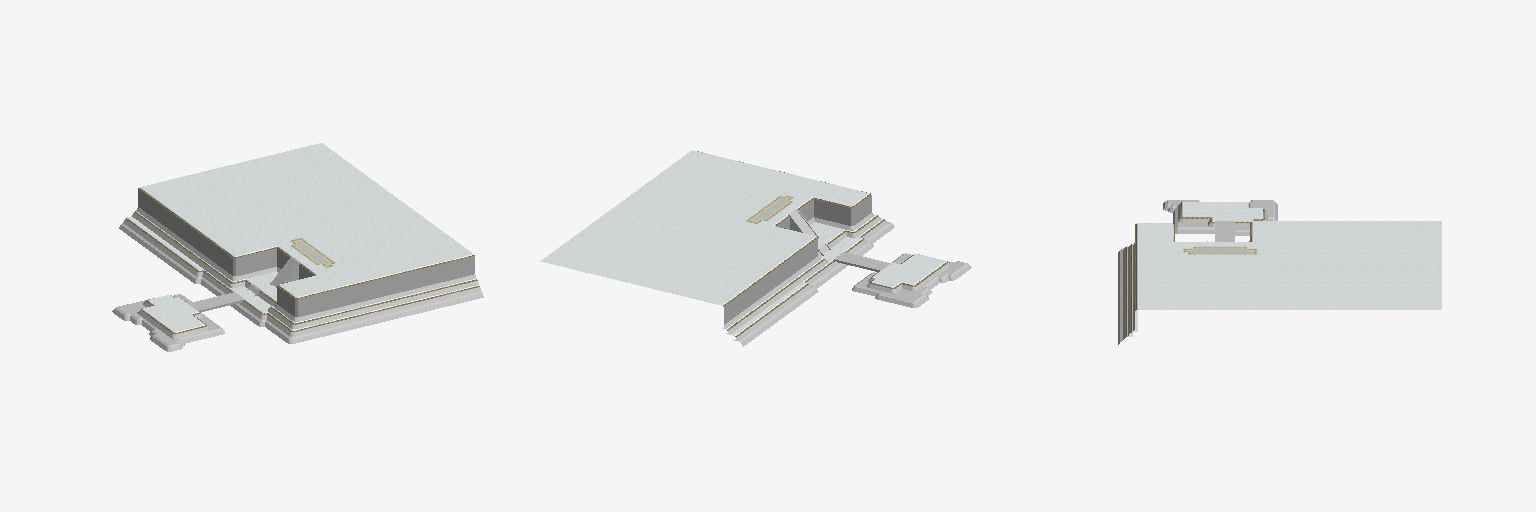
The picture shows the model from 3 angles: view 1: azimuth 30°, elevation 25°; view 2: azimuth 150°, elevation 25°; view 3: azimuth 270°, elevation 25°; orthographic projection.
Parts seen in each view (by area): view 1: map.002; view 2: map.002; view 3: map.002.
Part boxes in pixels (x1,y1,x2,y2): map.002: (112,143,483,351); map.002: (540,150,971,346); map.002: (1118,200,1441,344).
Bounding box in the file's own units: 68 × 8 × 65.
11 materials, 3 textured.